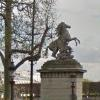Statue: (39, 17, 80, 67)
